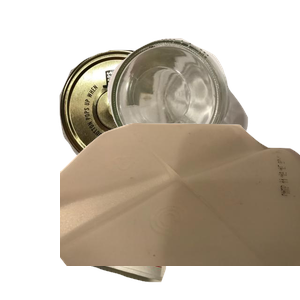glass: (105, 36, 300, 201)
metal: (57, 47, 227, 211)
plastic: (60, 120, 300, 300)
trash: (68, 158, 235, 300)
